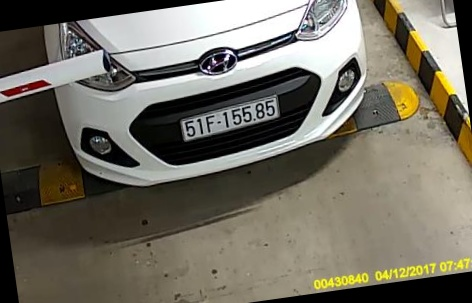plate: (177, 86, 284, 148)
